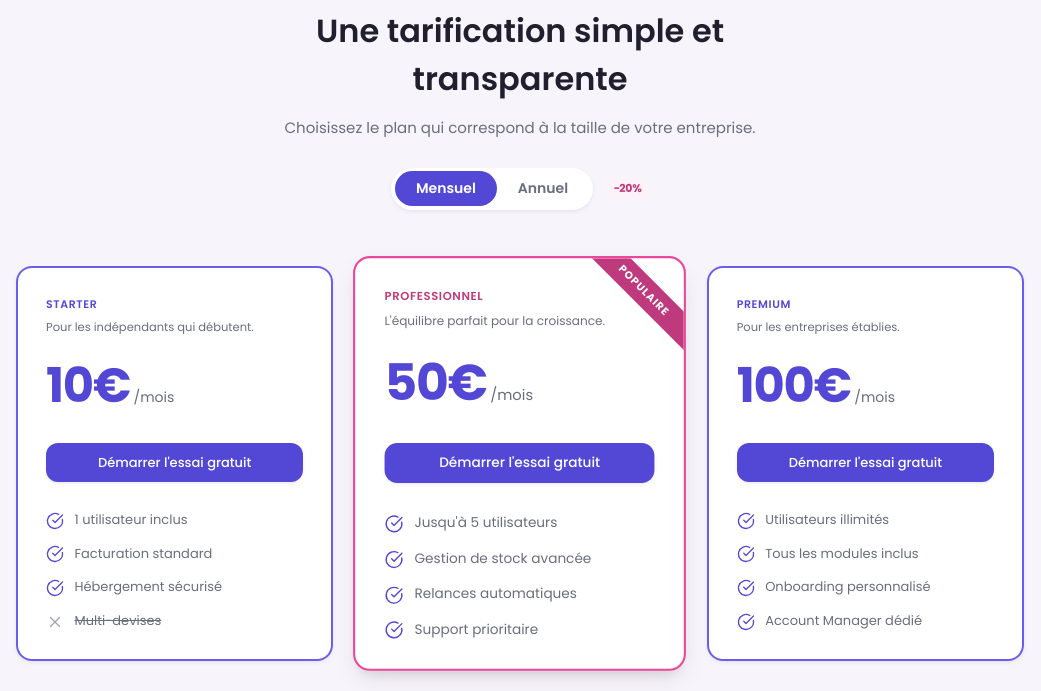
Test: Pricing — bascule Mensuel / Annuel (US 4.2) › applique la remise de 20 % et bascule l'état ARIA au clic sur « Annuel »
What coordinates should you click on to do the following:
click the button "Annuel"
I would click on:
 (543, 188)
Its box is [497, 171, 589, 206].
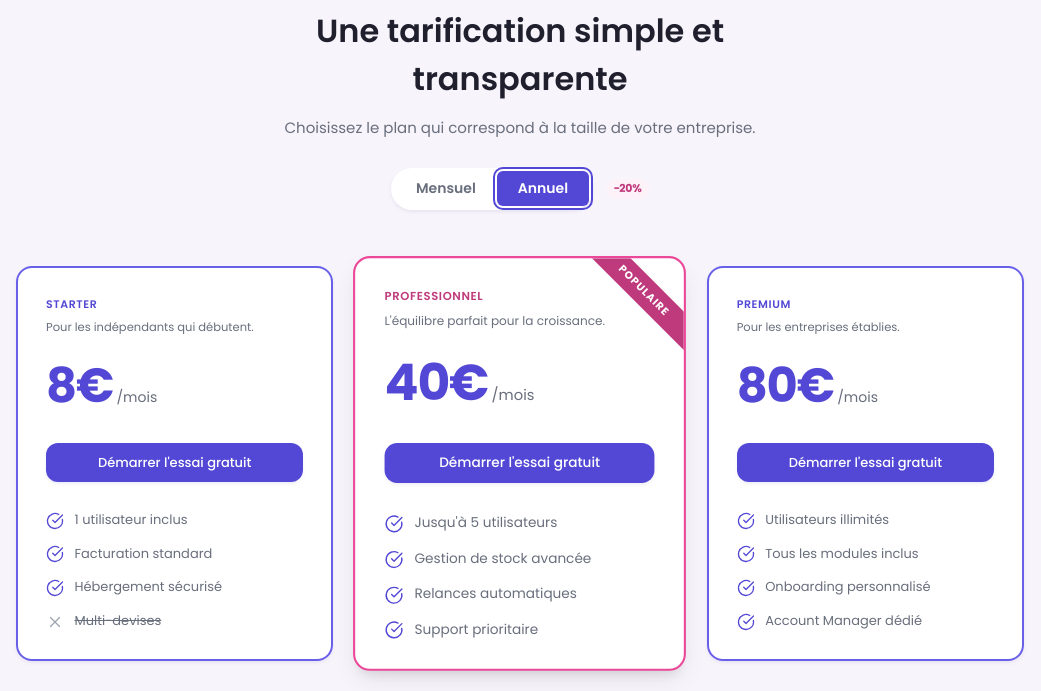
Now the text "8€" is shown, box [46, 350, 113, 422]
Now the text "40€" is shown, box [385, 345, 488, 420]
Now the text "80€" is shown, box [737, 350, 834, 422]
